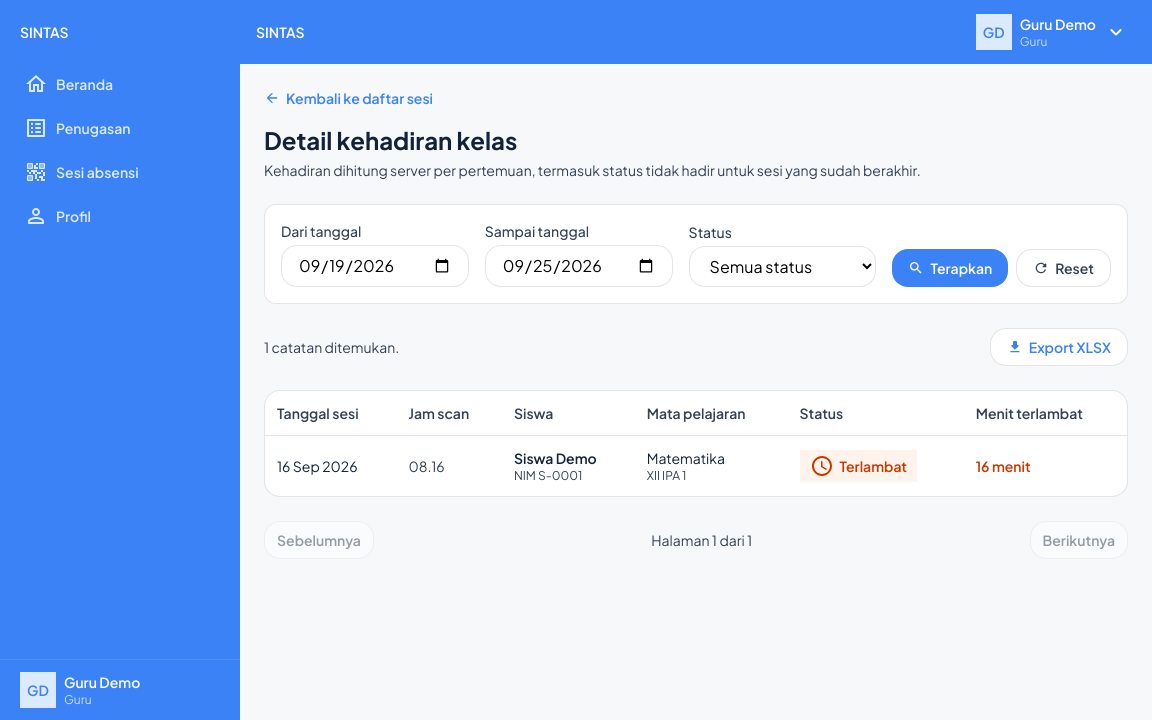
Test: halaman detail kehadiran kelas guru › mengunduh export XLSX dengan scope kelas
The image size is (1152, 720).
expect the text "1 catatan ditemukan." is shown: met, box x1=264 y1=337 x2=399 y2=357
Click the button "Export XLSX": (1059, 347) x1=990 y1=328 x2=1128 y2=366
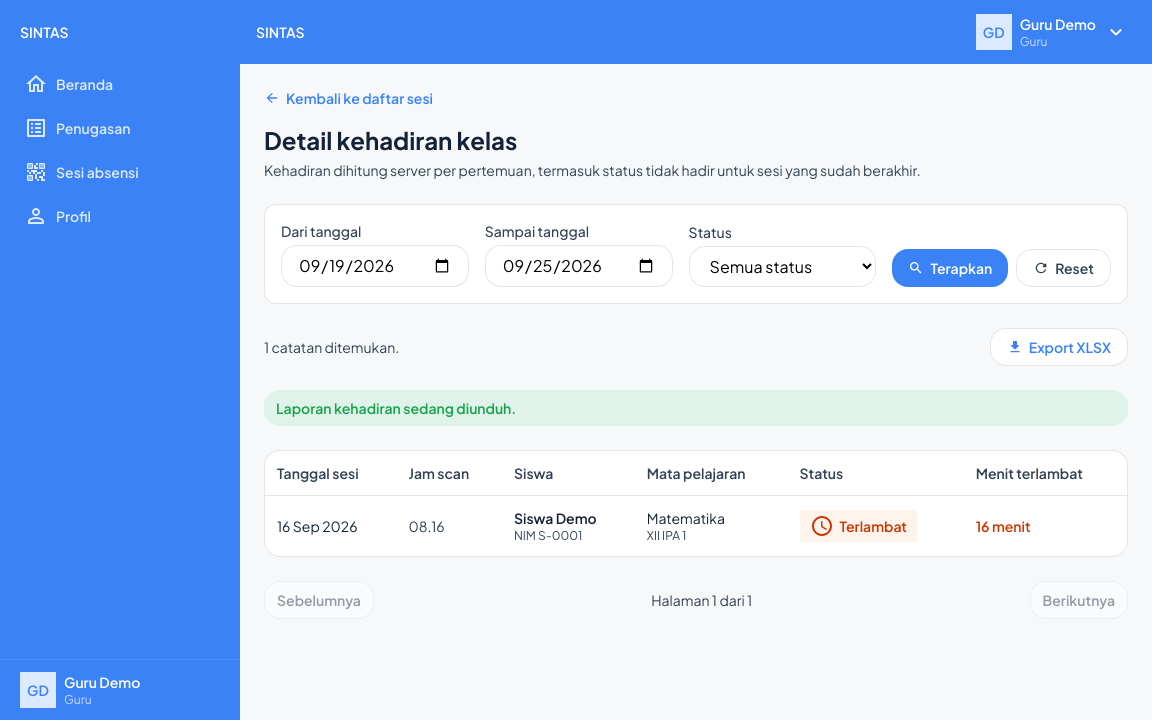
expect the text "Laporan kehadiran sedang diunduh." is shown: met, box x1=264 y1=390 x2=1128 y2=426
